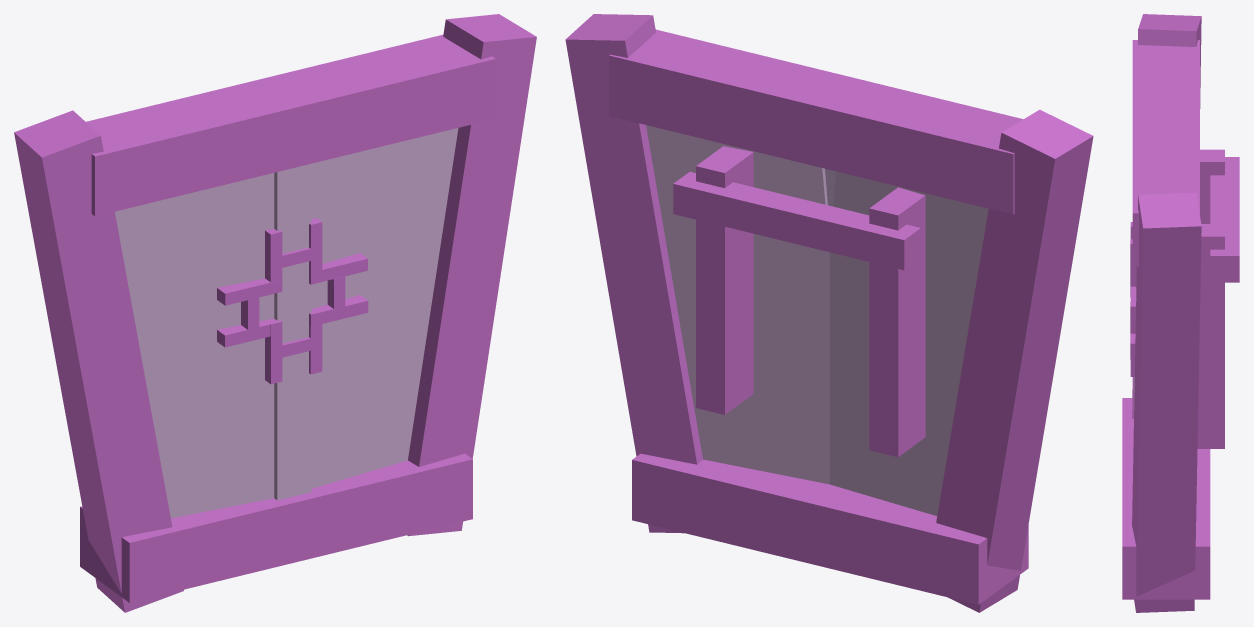
File: GuardFaintness.fbx
3 views of the same model, side by side, from view 1: azimuth 30°, elevation 25°; view 2: azimuth 150°, elevation 25°; view 3: azimuth 270°, elevation 25° (orthographic). The views are drawn at different scales.
Visible parts, largest first — view 1: Cube.014, Cube.018, Cube.009; view 2: Cube.014, Cube.018, Cube.017; view 3: Cube.014, Cube.017, Cube.009.
Boxes of the visible parts, box(x1,y1,x2,y2) form: Cube.014: box(14, 14, 536, 612); Cube.018: box(115, 128, 458, 518); Cube.009: box(217, 218, 368, 384); Cube.014: box(565, 14, 1093, 612); Cube.018: box(646, 125, 988, 515); Cube.017: box(673, 146, 925, 457); Cube.014: box(1122, 14, 1210, 612); Cube.017: box(1197, 149, 1239, 448); Cube.009: box(1130, 222, 1136, 376).
Bounding box in the file's own units: 173 × 161 × 40.
